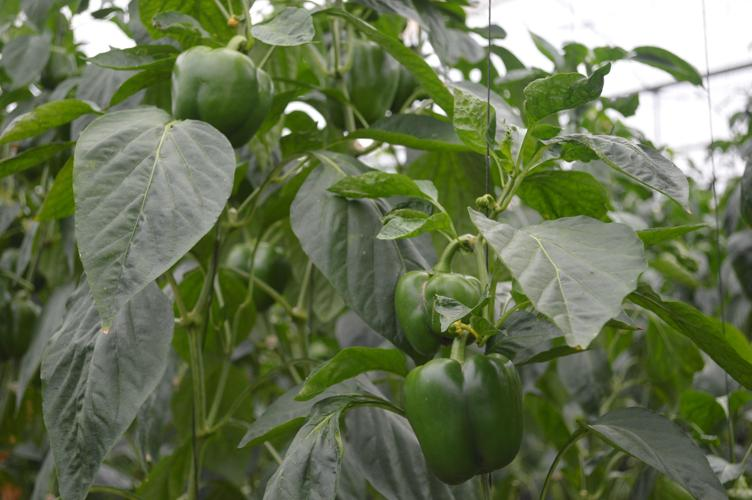BellPepper: (385, 334, 532, 481), (165, 37, 268, 148), (386, 262, 502, 348), (317, 28, 400, 141), (215, 215, 302, 317)
